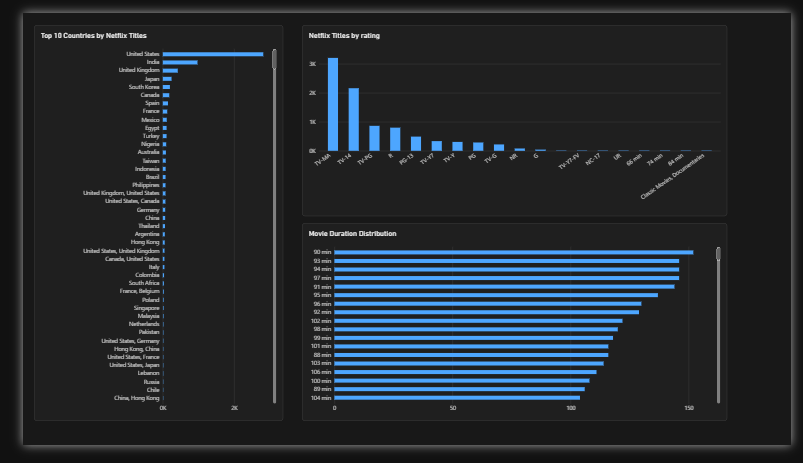

What the dashboard file says about the page in this screenshot:
{"tool":"powerbi","page":{"name":"Page 2","canvas":[1920,1080],"ordinal":1},"visuals":[{"type":"clusteredBarChart","title":"Top 10 Countries by Netflix Titles","fields":{"Category":["netflix_titles.country"],"Y":["Count(netflix_titles.show_id)"]},"box":[27.5,30,622.5,990],"z":0},{"type":"clusteredColumnChart","title":"Netflix Titles by rating","fields":{"Category":["netflix_titles.rating"],"Y":["Count(netflix_titles.show_id)"]},"box":[697.5,30,1062.5,477.5],"z":1},{"type":"clusteredBarChart","title":"Movie Duration Distribution","fields":{"Category":["netflix_titles.duration"],"Y":["Count(netflix_titles.show_id)"]},"box":[697.5,525,1062.5,495],"z":2}]}

Visuals, with their boxes in screenshot pixels (x1, y1, x2, y2), scaled from the page's 1920x1080 canvas onto the 803x463 screenshot:
"Top 10 Countries by Netflix Titles" clusteredBarChart: select_region(12, 13, 272, 437)
"Netflix Titles by rating" clusteredColumnChart: select_region(292, 13, 736, 218)
"Movie Duration Distribution" clusteredBarChart: select_region(292, 225, 736, 437)
